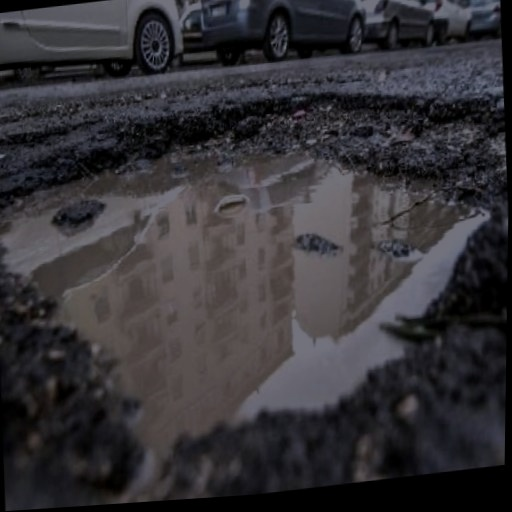pothole: (0, 57, 511, 489)
